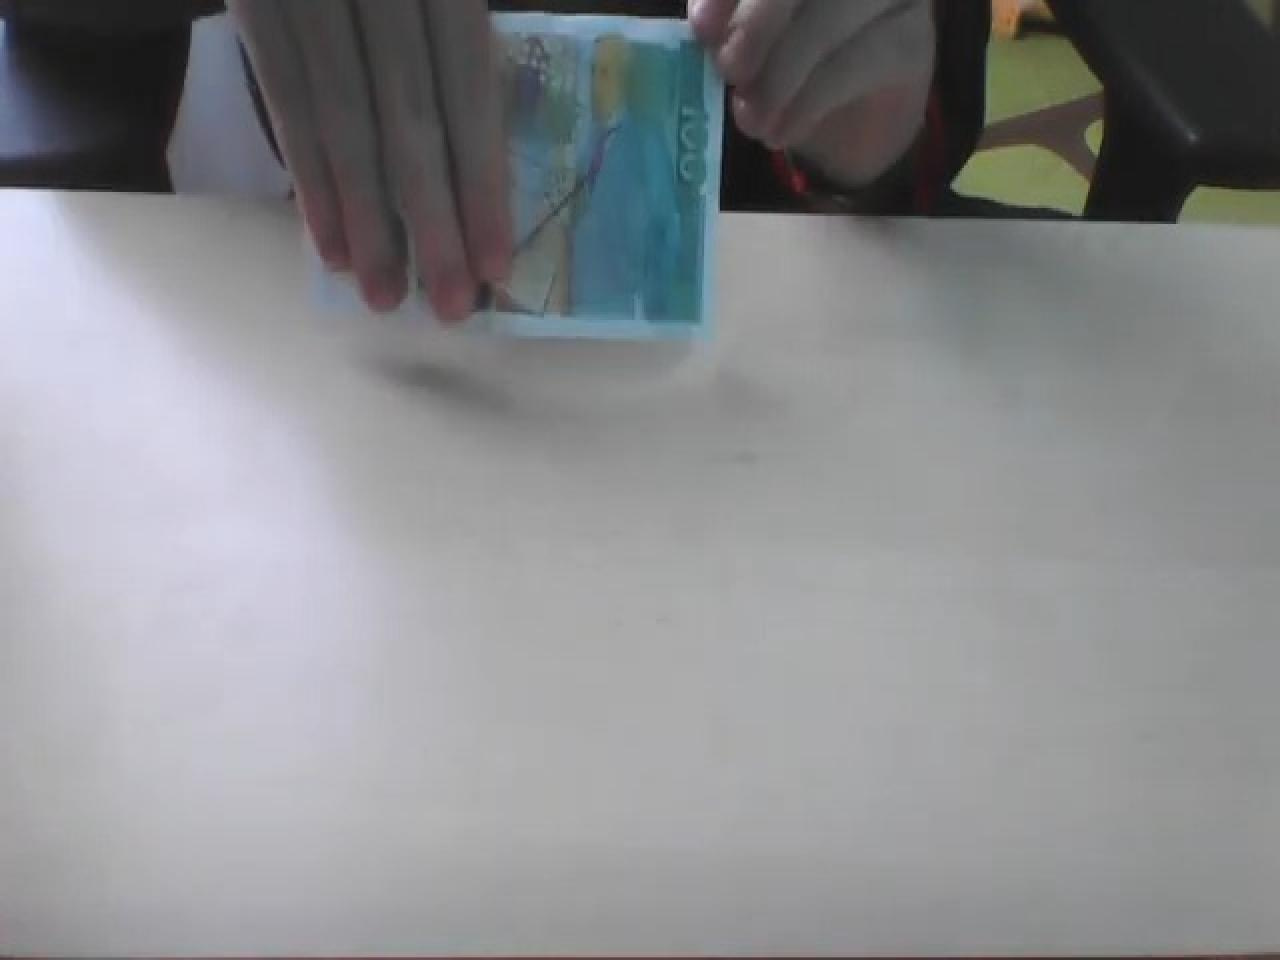100leva: (478, 13, 718, 339)
